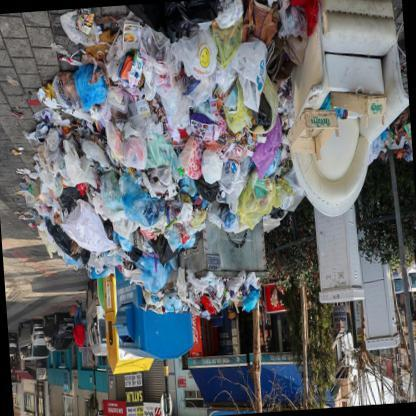Garbage: (2, 0, 260, 216), (87, 5, 168, 280), (46, 4, 165, 187), (4, 57, 89, 152), (207, 63, 276, 166), (160, 147, 230, 225), (106, 4, 156, 102), (247, 0, 315, 72), (8, 130, 53, 232), (160, 281, 257, 328), (152, 133, 210, 206), (236, 148, 274, 233), (188, 276, 263, 318), (90, 46, 127, 128), (201, 0, 246, 66), (66, 198, 114, 256), (138, 201, 170, 284), (180, 34, 220, 88), (16, 180, 43, 248), (137, 236, 163, 287), (154, 288, 187, 322)
